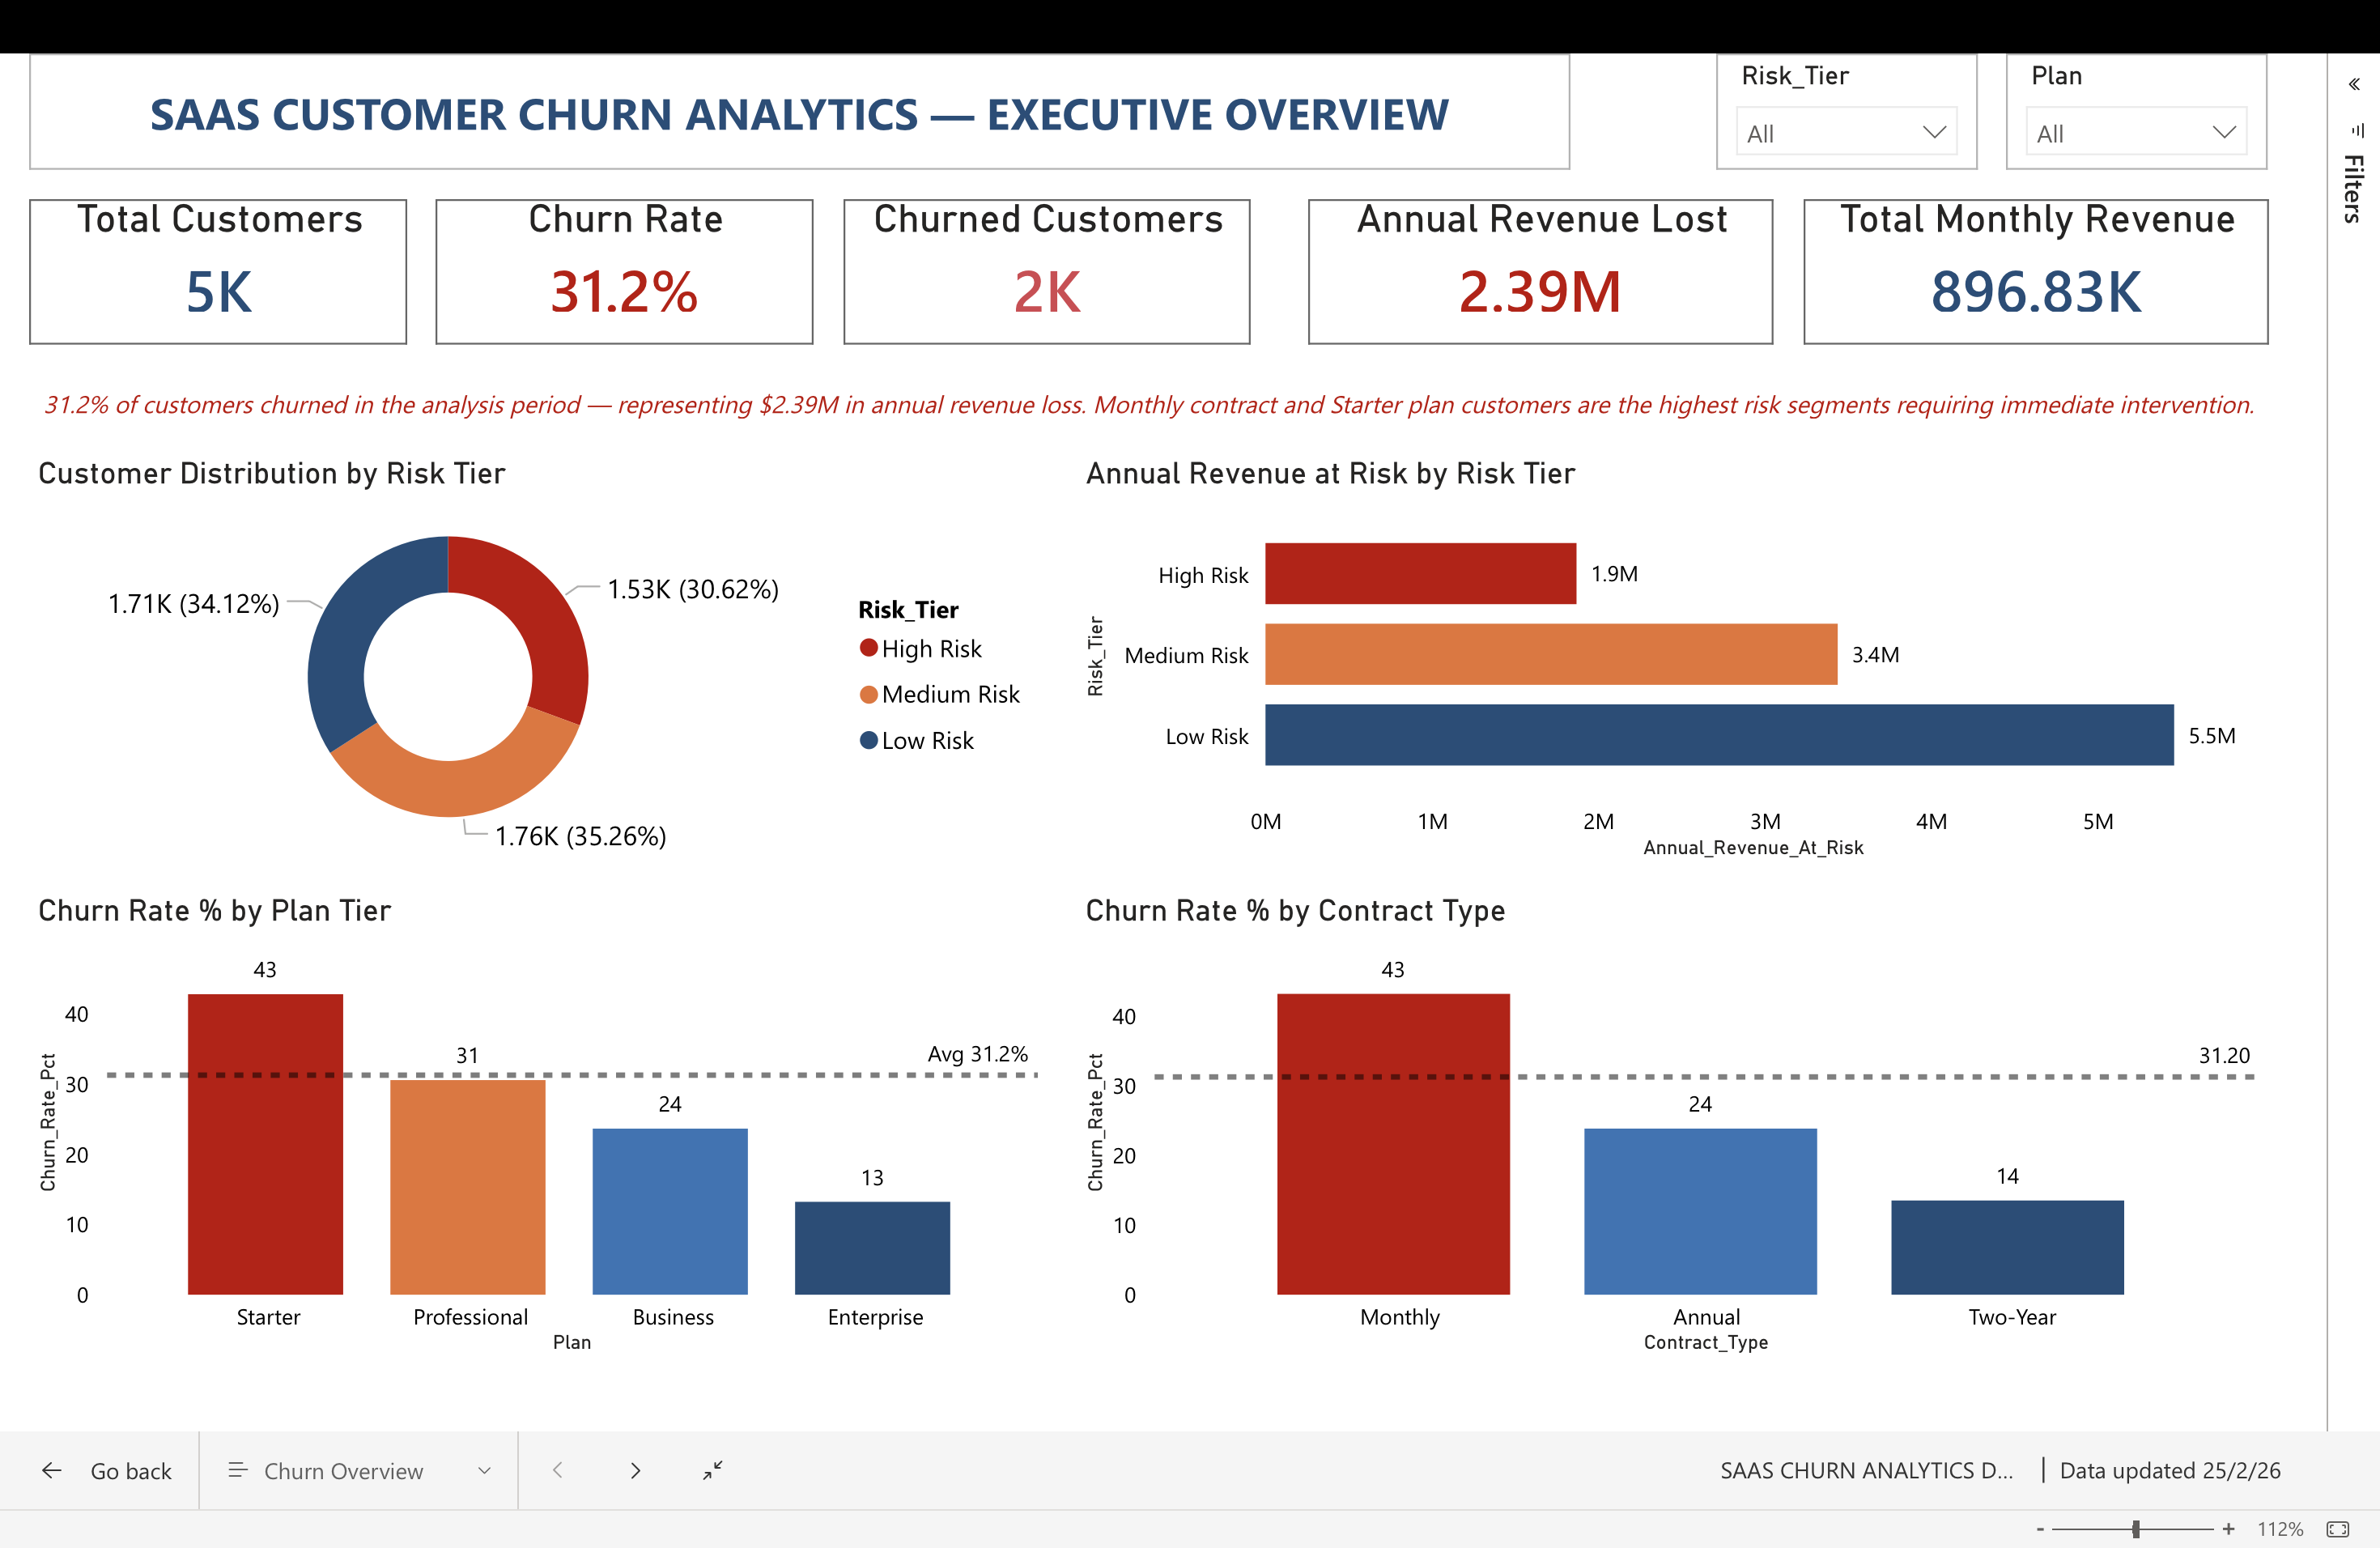

This screenshot's page, from the dashboard's own definition file:
{"tool":"powerbi","page":{"name":"Churn Overview","canvas":[1280,720],"ordinal":0},"visuals":[{"type":"shape","box":[16,0,848,64],"z":0},{"type":"cardVisual","title":"Total Customers","fields":{"Data":["churn_dashboard_contract.Total Customers"]},"box":[16,80,208,80],"z":1000},{"type":"cardVisual","title":"Churn Rate","fields":{"Data":["churn_dashboard_contract.Churn Rate"]},"box":[240,80,208,80],"z":2000},{"type":"cardVisual","title":"Churned Customers","fields":{"Data":["churn_dashboard_contract.Churned Customers"]},"box":[464,80,224,80],"z":3000},{"type":"cardVisual","title":"Annual Revenue Lost","fields":{"Data":["churn_dashboard_contract.Annual Revenue Lost"]},"box":[720,80,256,80],"z":4000},{"type":"cardVisual","title":"Total Monthly Revenue","fields":{"Data":["churn_dashboard_contract.Total Monthly Revenue"]},"box":[992,80,256,80],"z":5000},{"type":"donutChart","title":"Customer Distribution by Risk Tier","fields":{"Category":["churn_dashboard_risk.Risk_Tier"],"Y":["Avg(churn_dashboard_risk.Customer_Count)"]},"box":[16,224,560,224],"z":6000},{"type":"clusteredBarChart","title":"Annual Revenue at Risk by Risk Tier","fields":{"Y":["Avg(churn_dashboard_risk.Annual_Revenue_At_Risk)"],"Category":["churn_dashboard_risk.Risk_Tier"]},"box":[592,224,656,224],"z":7000},{"type":"clusteredColumnChart","title":"Churn Rate % by Plan Tier","fields":{"Y":["Avg(churn_dashboard_plan.Churn_Rate_Pct)"],"Category":["churn_dashboard_plan.Plan"]},"box":[16,464,560,256],"z":8000},{"type":"clusteredColumnChart","title":"Churn Rate % by Contract Type","fields":{"Category":["churn_dashboard_main.Contract_Type"],"Y":["Avg(churn_dashboard_contract.Churn_Rate_Pct)"]},"box":[592,464,656,256],"z":9000},{"type":"shape","box":[16,176,1232,32],"z":10000},{"type":"slicer","fields":{"Values":["churn_dashboard_main.Plan"]},"box":[1104,0,144,64],"z":11000},{"type":"slicer","fields":{"Values":["churn_dashboard_main.Risk_Tier"]},"box":[944,0,144,64],"z":12000}]}

Visuals, with their boxes on the page's 1280x720 design canvas (x1, y1, x2, y2). These are canvas units, not pixel positions in the 2380x1548 screenshot, which may show the page scaled, cropped or inside an application window:
shape: [left=16, top=0, right=864, bottom=64]
"Total Customers" cardVisual: [left=16, top=80, right=224, bottom=160]
"Churn Rate" cardVisual: [left=240, top=80, right=448, bottom=160]
"Churned Customers" cardVisual: [left=464, top=80, right=688, bottom=160]
"Annual Revenue Lost" cardVisual: [left=720, top=80, right=976, bottom=160]
"Total Monthly Revenue" cardVisual: [left=992, top=80, right=1248, bottom=160]
"Customer Distribution by Risk Tier" donutChart: [left=16, top=224, right=576, bottom=448]
"Annual Revenue at Risk by Risk Tier" clusteredBarChart: [left=592, top=224, right=1248, bottom=448]
"Churn Rate % by Plan Tier" clusteredColumnChart: [left=16, top=464, right=576, bottom=720]
"Churn Rate % by Contract Type" clusteredColumnChart: [left=592, top=464, right=1248, bottom=720]
shape: [left=16, top=176, right=1248, bottom=208]
slicer - churn_dashboard_main.Plan: [left=1104, top=0, right=1248, bottom=64]
slicer - churn_dashboard_main.Risk_Tier: [left=944, top=0, right=1088, bottom=64]
